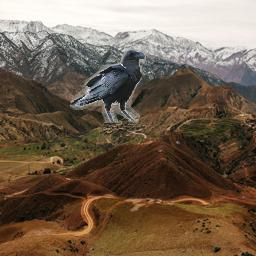Crow: (70, 49, 146, 123)
